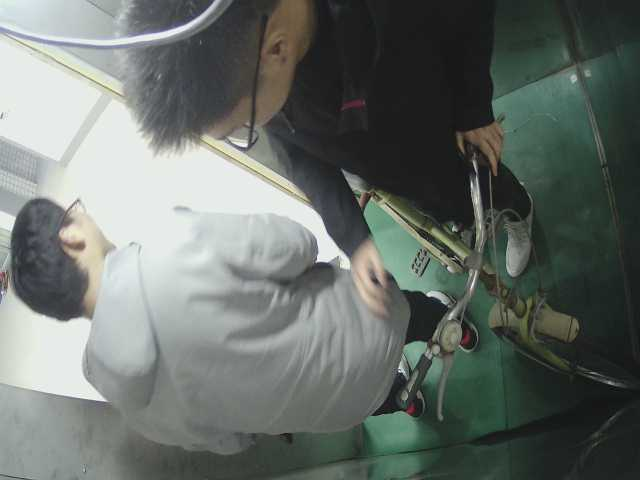bicycle: (334, 129, 636, 419)
person: (112, 1, 546, 286), (7, 193, 483, 448)
